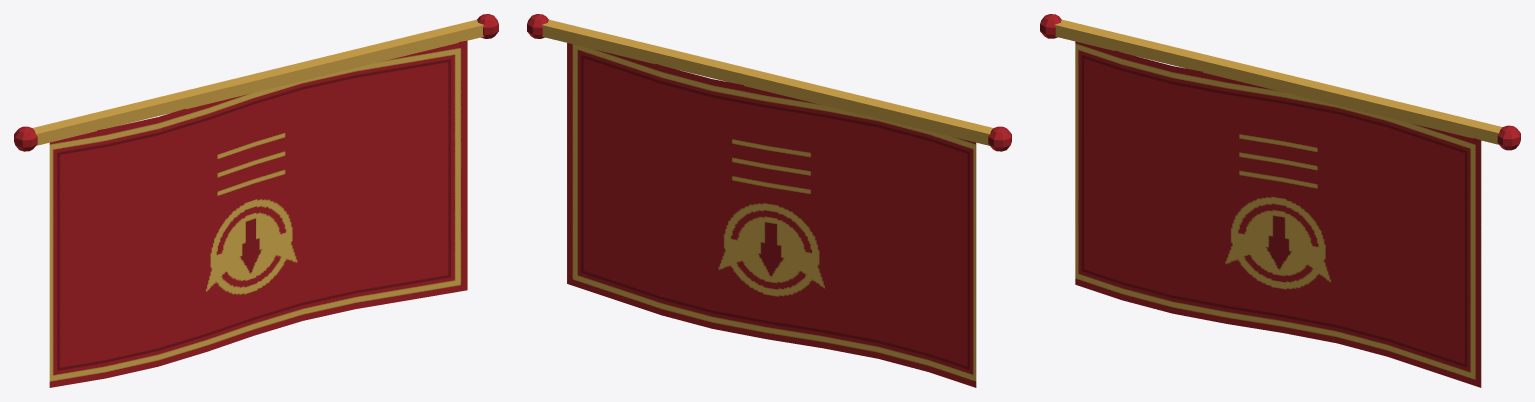
The model's file is SM_banner_wide.glb.
The picture shows the model from 3 angles, left to right: view 1: azimuth 30°, elevation 25°; view 2: azimuth 150°, elevation 25°; view 3: azimuth 330°, elevation 25°; orthographic projection.
Parts seen in each view (by area): view 1: SM_banner_wide; view 2: SM_banner_wide; view 3: SM_banner_wide.
Boxes of the visible parts, bbox=[...] form: SM_banner_wide: bbox=[14, 14, 498, 387]; SM_banner_wide: bbox=[527, 14, 1011, 387]; SM_banner_wide: bbox=[1040, 14, 1520, 387].
Size of the model in its own units: 6.07 by 3.2 by 0.2663.
1 material, 1 textured.
